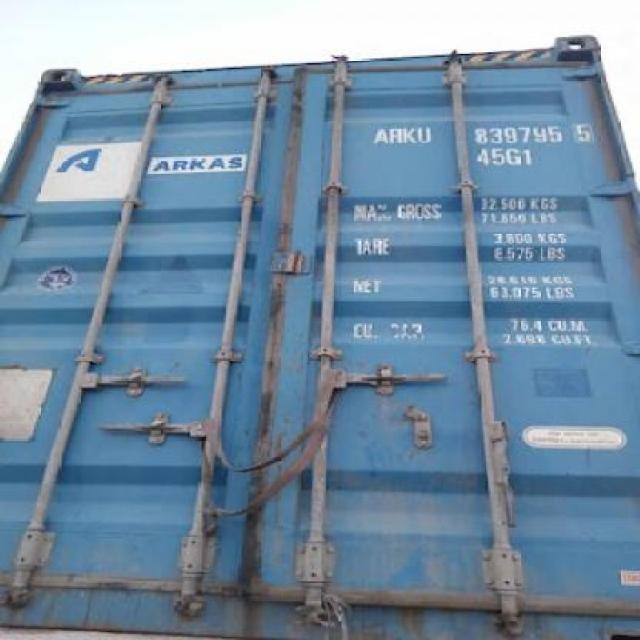ISO: (478, 148, 534, 167)
container_number: (376, 120, 590, 144), (471, 125, 594, 144)
